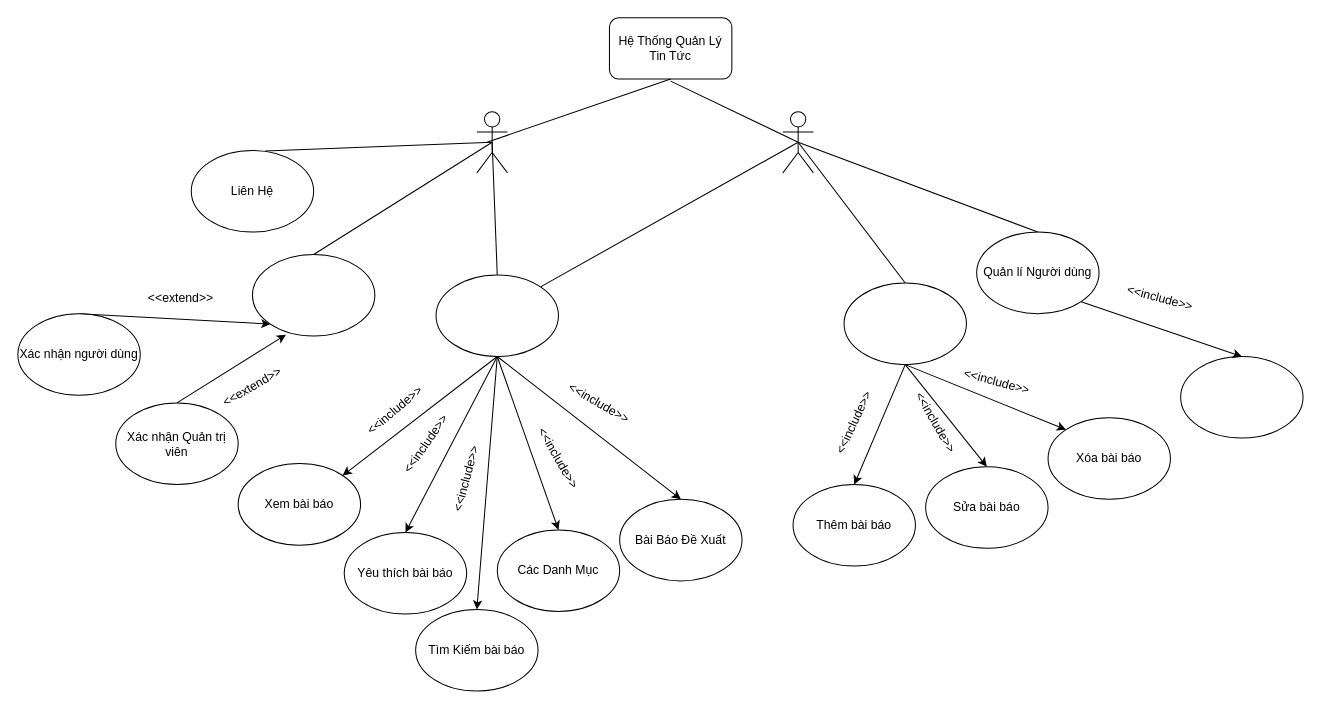
Image size: 1321x709. Some labels were removed from this diagram. Each missing label, with the box of its shape:
Người dùng: (476, 111, 507, 173)
Quản lí bài báo: (843, 282, 966, 365)
Quản Trị Viên: (782, 111, 813, 173)
Truy cập Trang báo: (435, 274, 558, 356)
Tên người dùng/ mật khẩu: (1180, 355, 1303, 438)
Đăng kí/Đăng nhập tài khoản: (251, 253, 375, 336)
